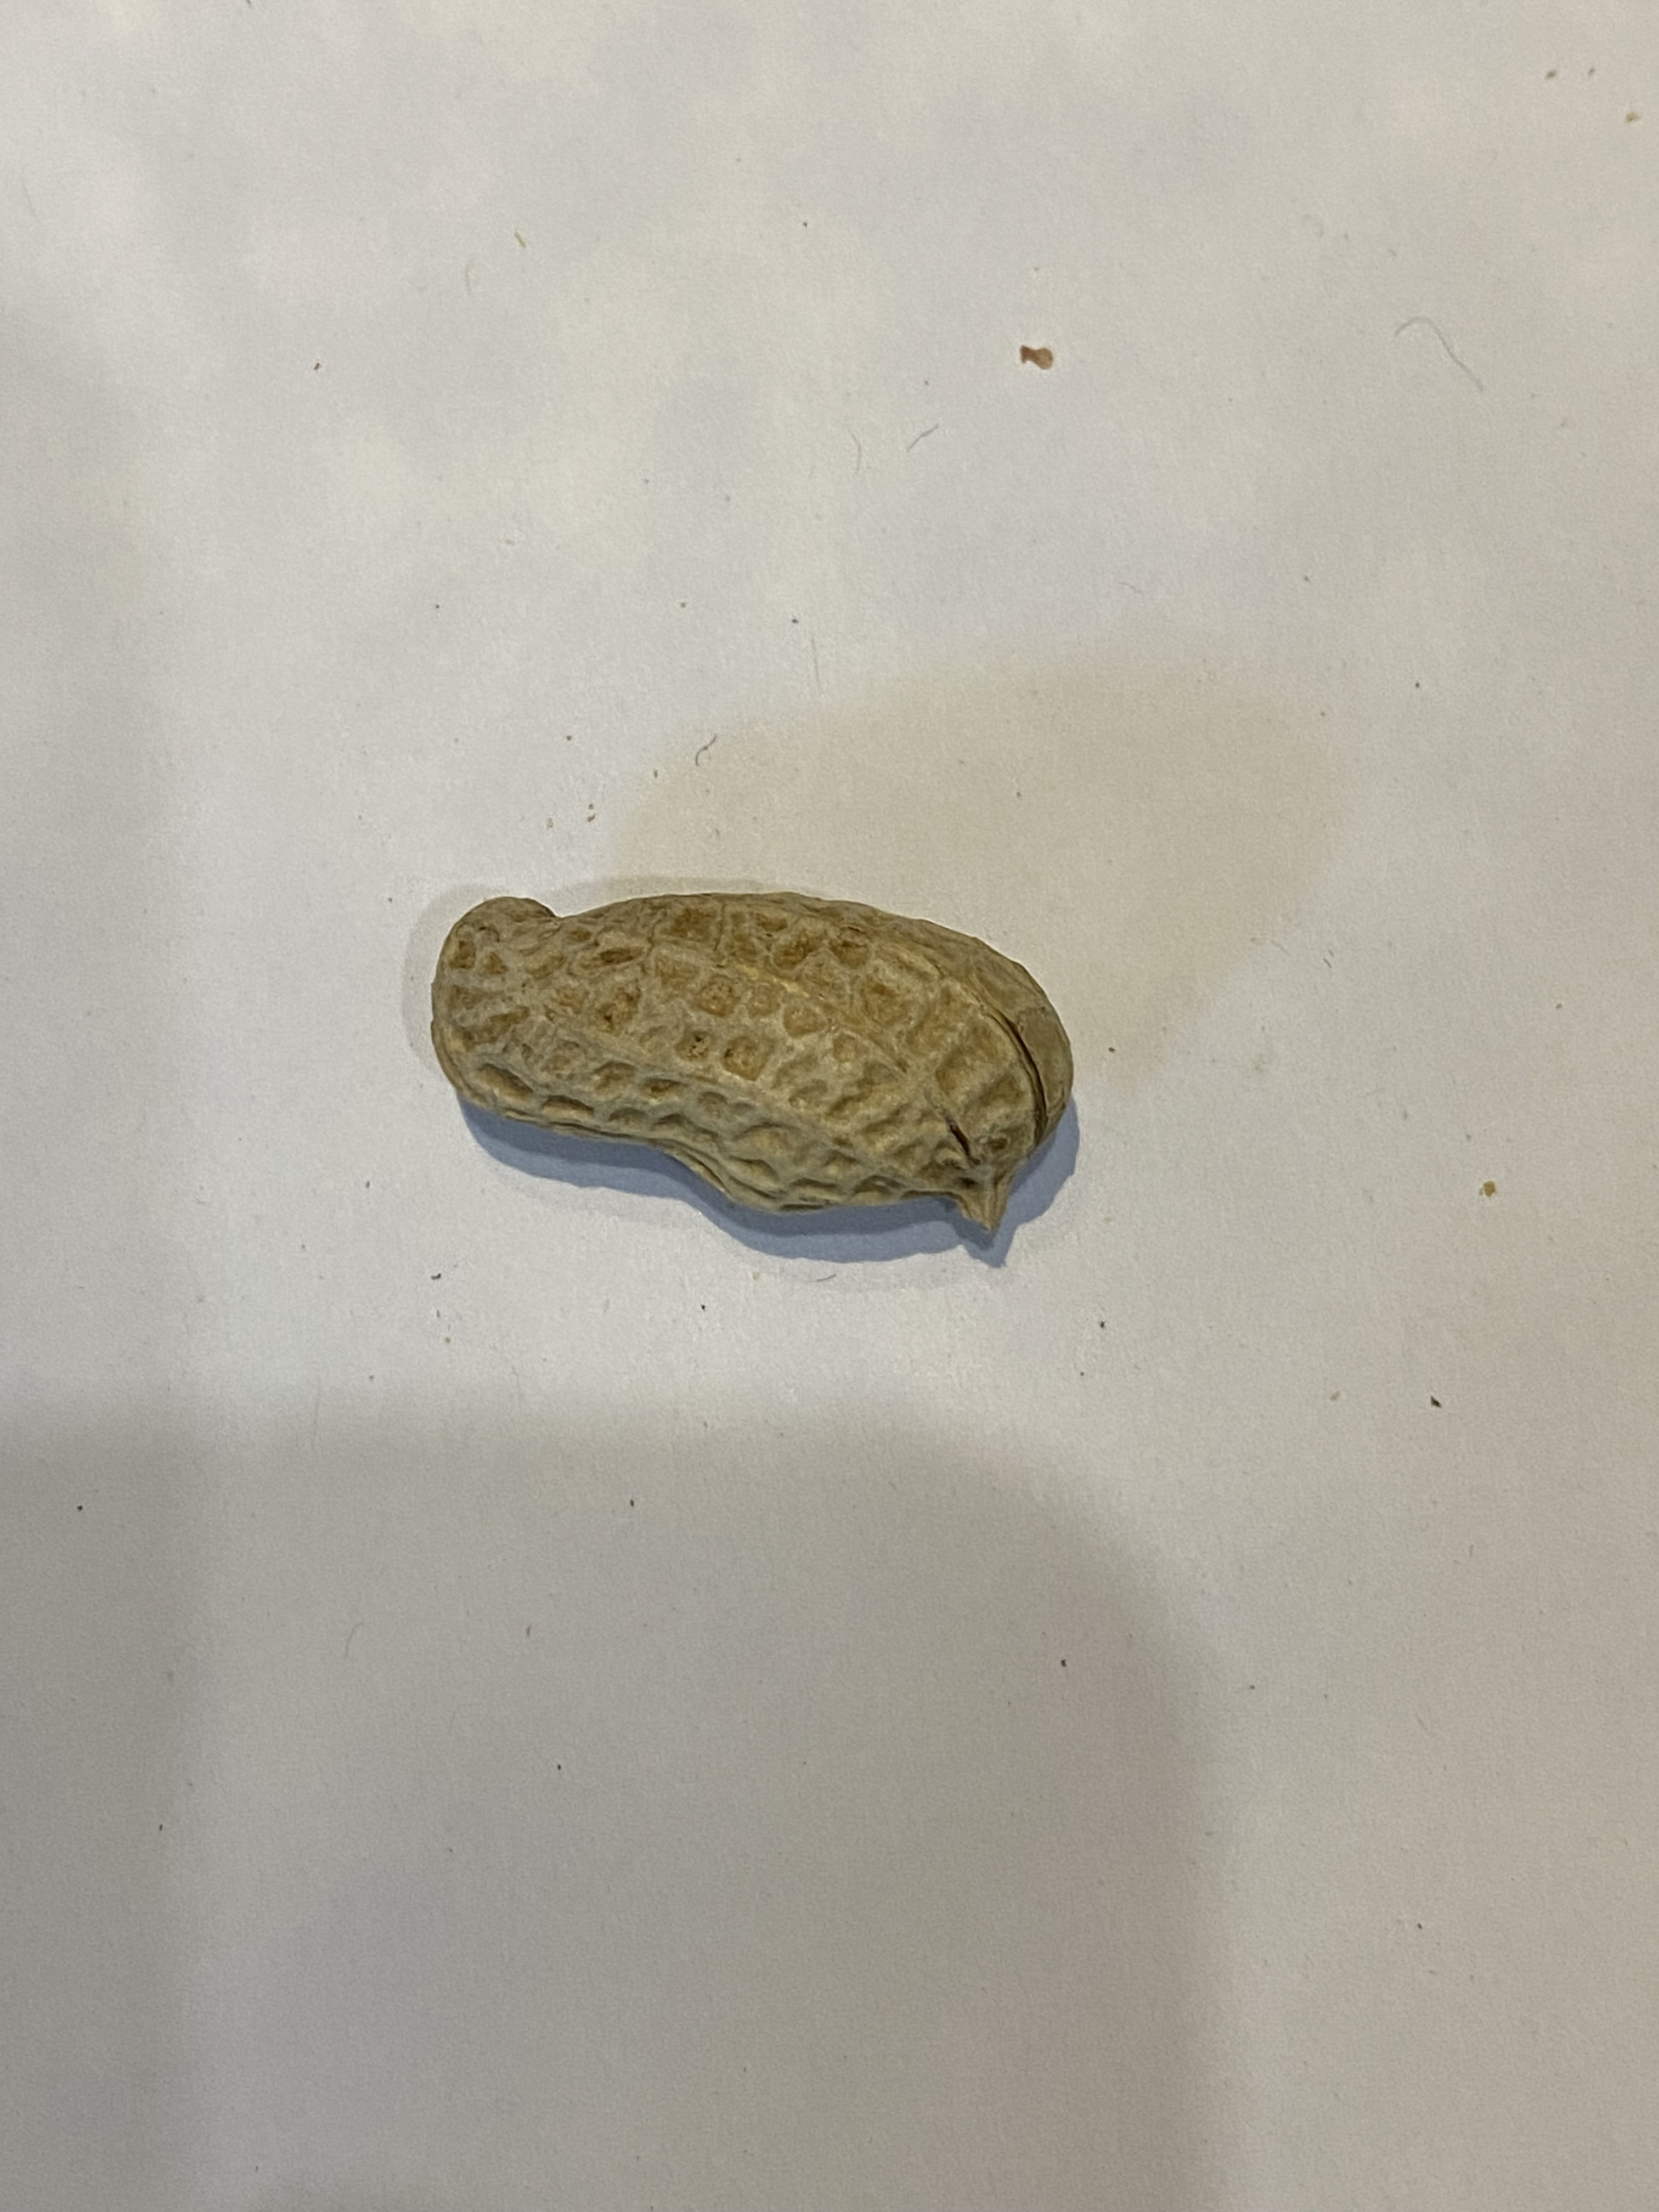kacang2: (361, 866, 1108, 1261)
